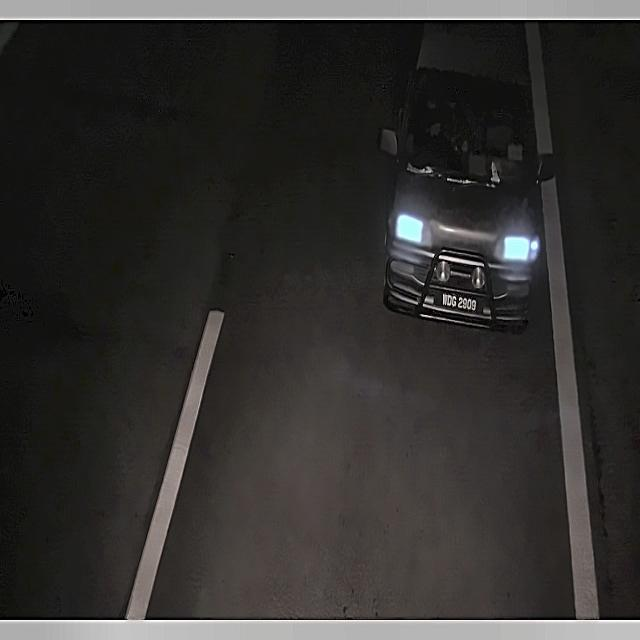car: (429, 277, 492, 326)
